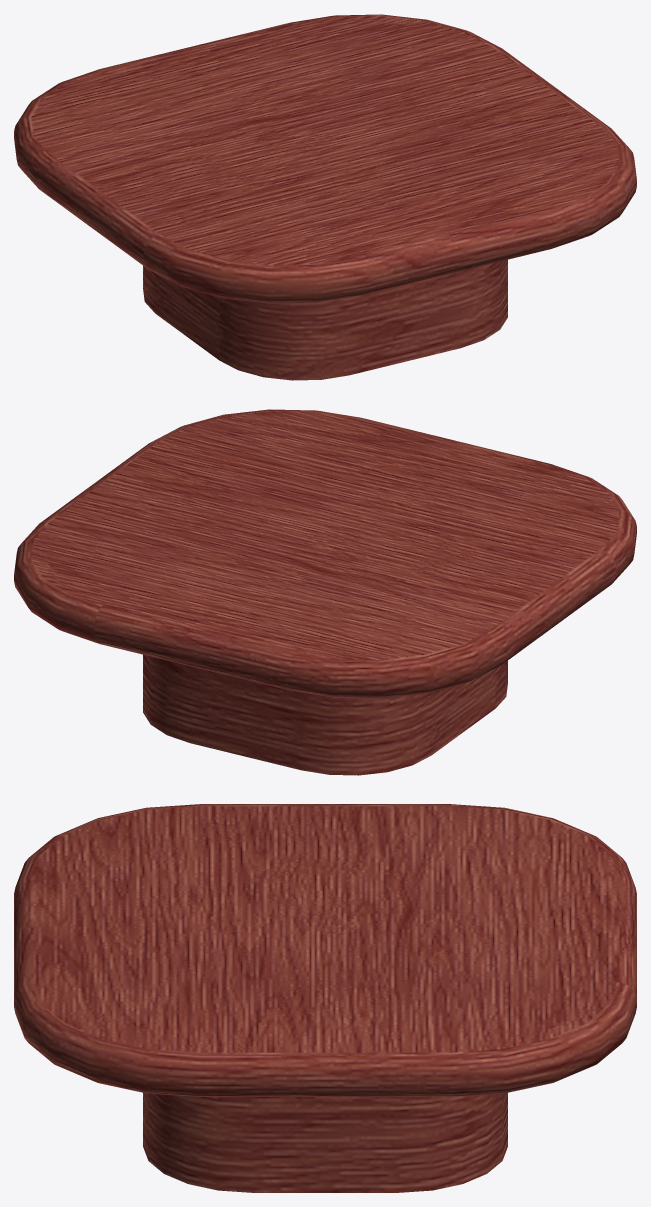
File: CoffeeTable_Sq_Walnut1.glb
The picture shows the model from 3 angles, top to bottom: view 1: azimuth 30°, elevation 25°; view 2: azimuth 150°, elevation 25°; view 3: azimuth 270°, elevation 25°; orthographic projection. The views are drawn at different scales.
Visible parts, largest first — view 1: Cube.007, Cube; view 2: Cube.007, Cube; view 3: Cube.007, Cube.
Boxes of the visible parts, box(x1,y1,x2,y2) form: Cube.007: box(14, 14, 636, 303); Cube: box(143, 259, 507, 380); Cube.007: box(14, 409, 636, 698); Cube: box(143, 654, 507, 775); Cube.007: box(14, 804, 636, 1096); Cube: box(143, 1093, 507, 1192).
Size of the model in its own units: 1.53 by 0.5061 by 1.53.
Materials: 1 (1 with a texture image).
